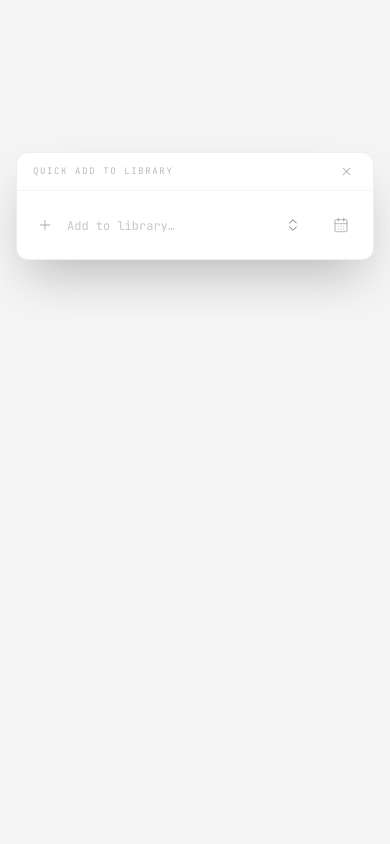
keeps quick drafts inline and saves all fields once, including uncommitted subtask text
Later steps or results of the test are not shown.
Click the button named "Expand details": point(293, 225) left=271, top=203, right=315, bottom=247
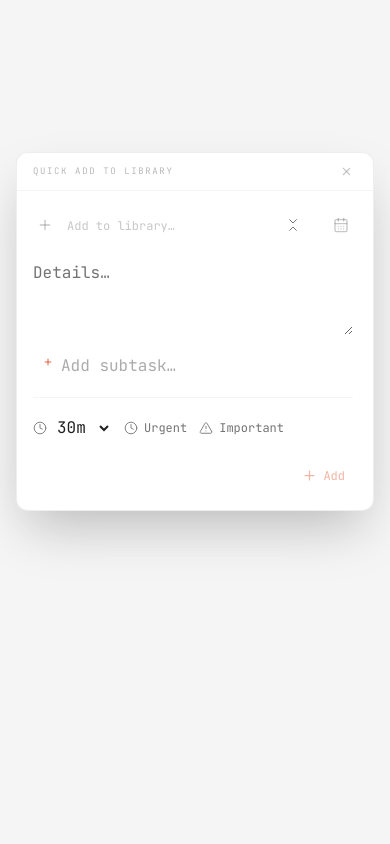
Check: the button "Add" is disabled, box left=294, top=454, right=353, bottom=498
In the field with placeholder "Add to library…": point(164, 225) left=67, top=205, right=261, bottom=245, type "Prepare outline"
In the text box labelled "Details": point(193, 295) left=33, top=255, right=353, bottom=335, type "Read the brief first."
Select "45m" in the dropdown named "Duration": point(82, 428) left=53, top=406, right=112, bottom=450
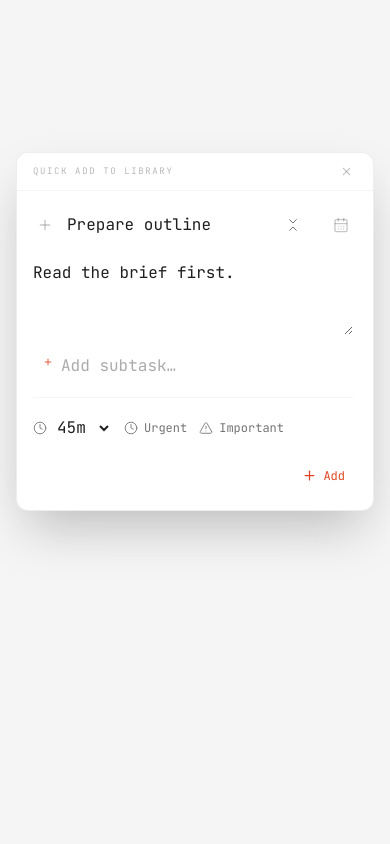
Click the button "Important": point(242, 428) left=199, top=406, right=284, bottom=450
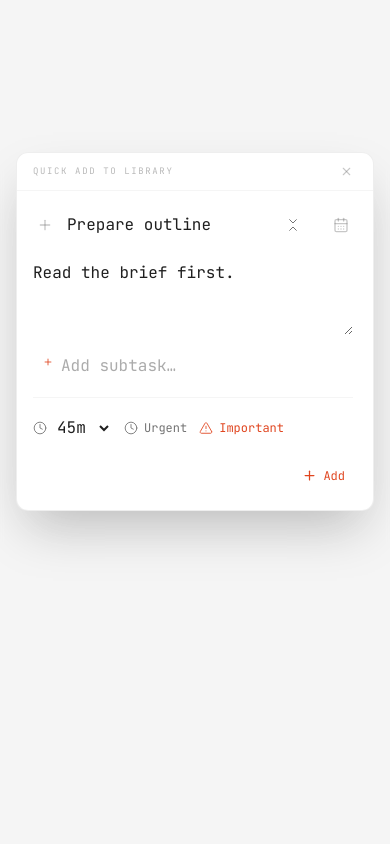
In the text box with placeholder "Add subtask…": point(207, 366) left=61, top=347, right=353, bottom=385, type "Uncommitted checklist line"
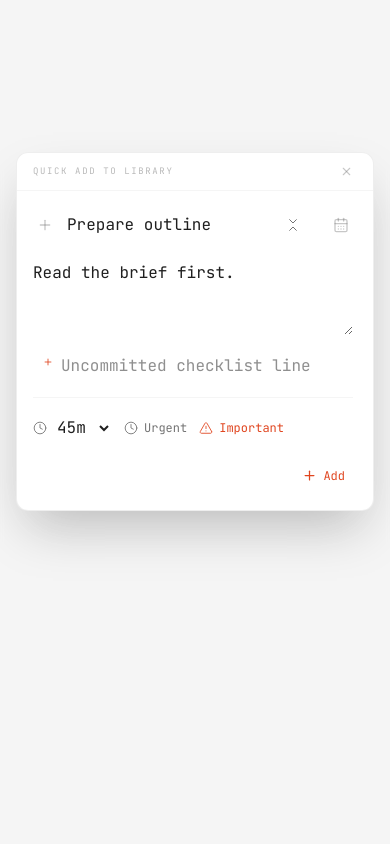
Click the button named "Collapse details": point(293, 225) left=271, top=203, right=315, bottom=247
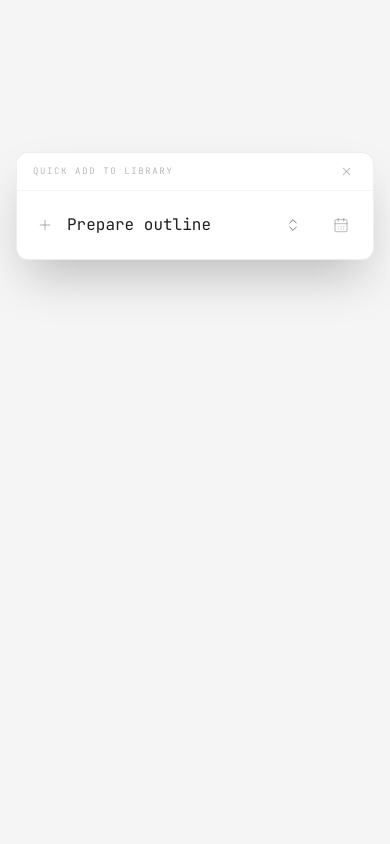
Check: the text box labelled "New library item details" is gone
Click the button named "Expand details": point(293, 225) left=271, top=203, right=315, bottom=247
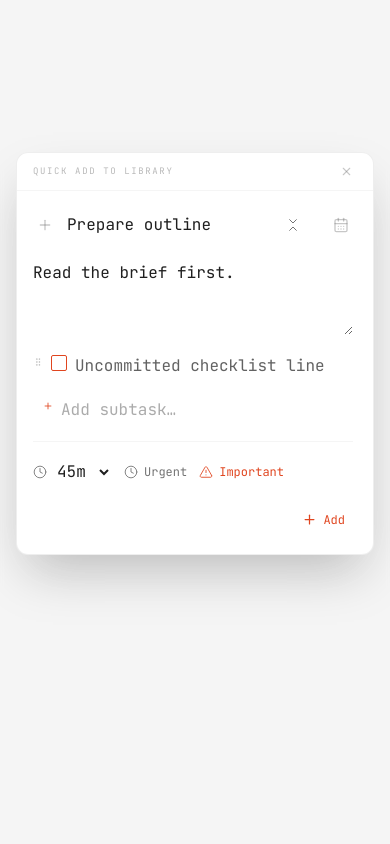
Check: the text box named "Details" holds "Read the brief first.", box left=33, top=255, right=353, bottom=335
